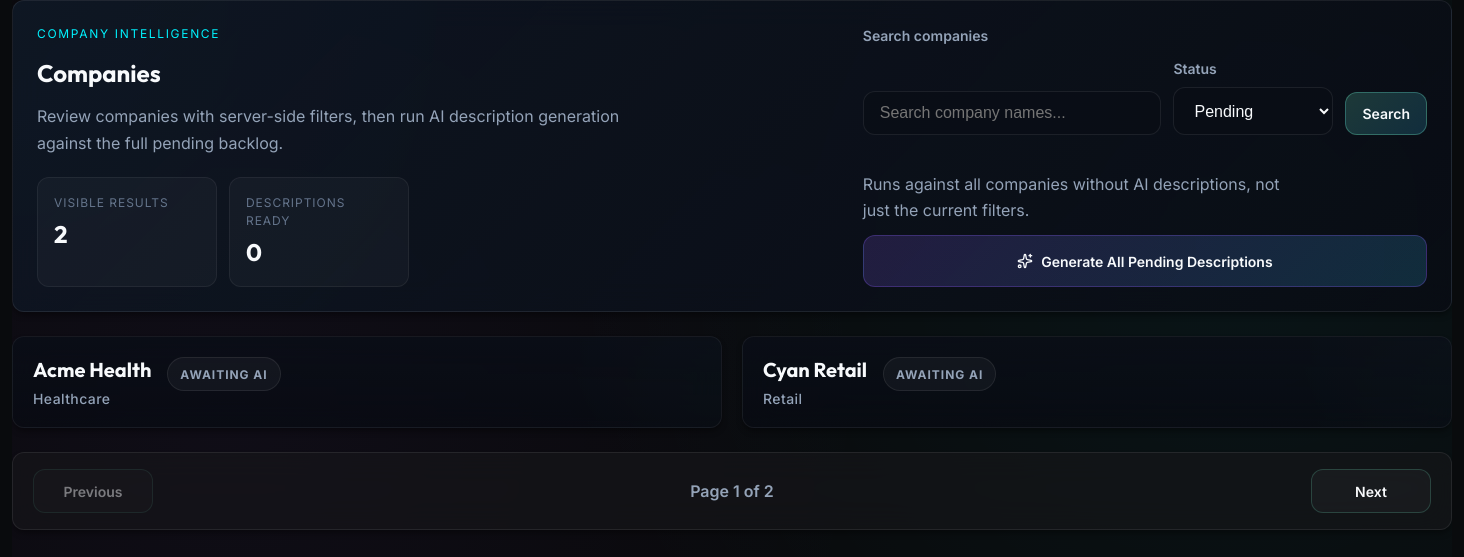
it: CompaniesPage › resets to page 1 when search or status filters change
Expected: the heading "Acme Health" is shown, [33, 357, 151, 382]
Step 1. Select "All" in the dropdown labelled "Status" → coordinates (1254, 111), box [1174, 87, 1334, 135]
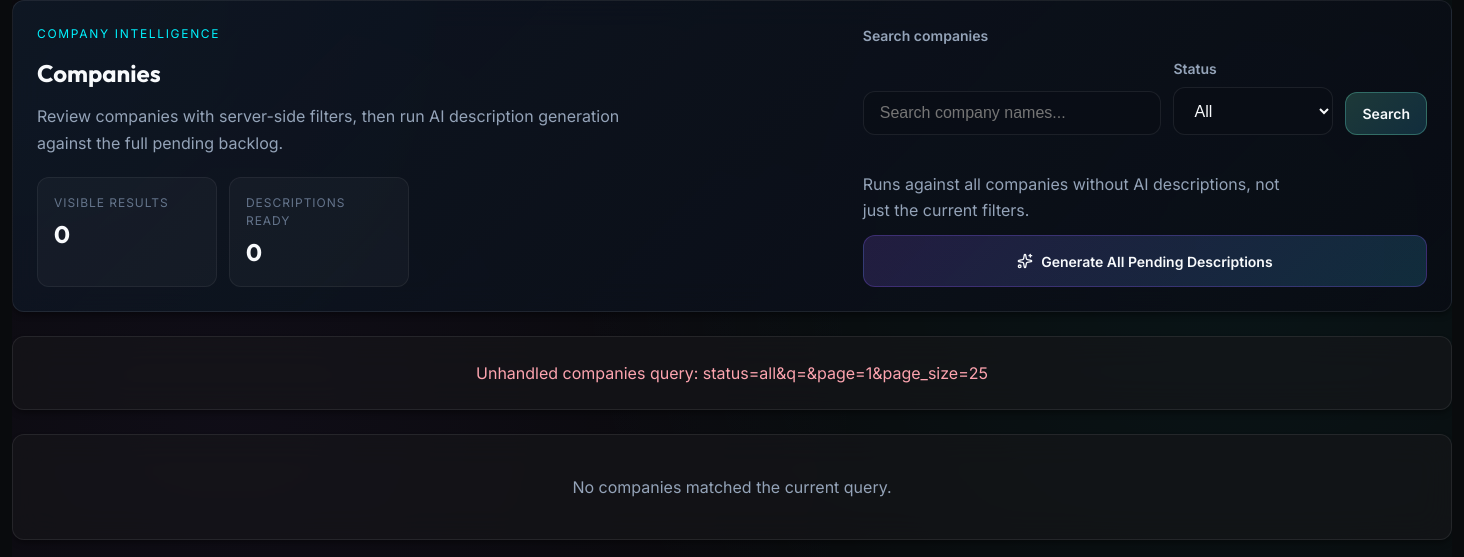
Step 2. Type "beta" into the field labelled "Search companies" → coordinates (1012, 113), box [863, 91, 1162, 135]
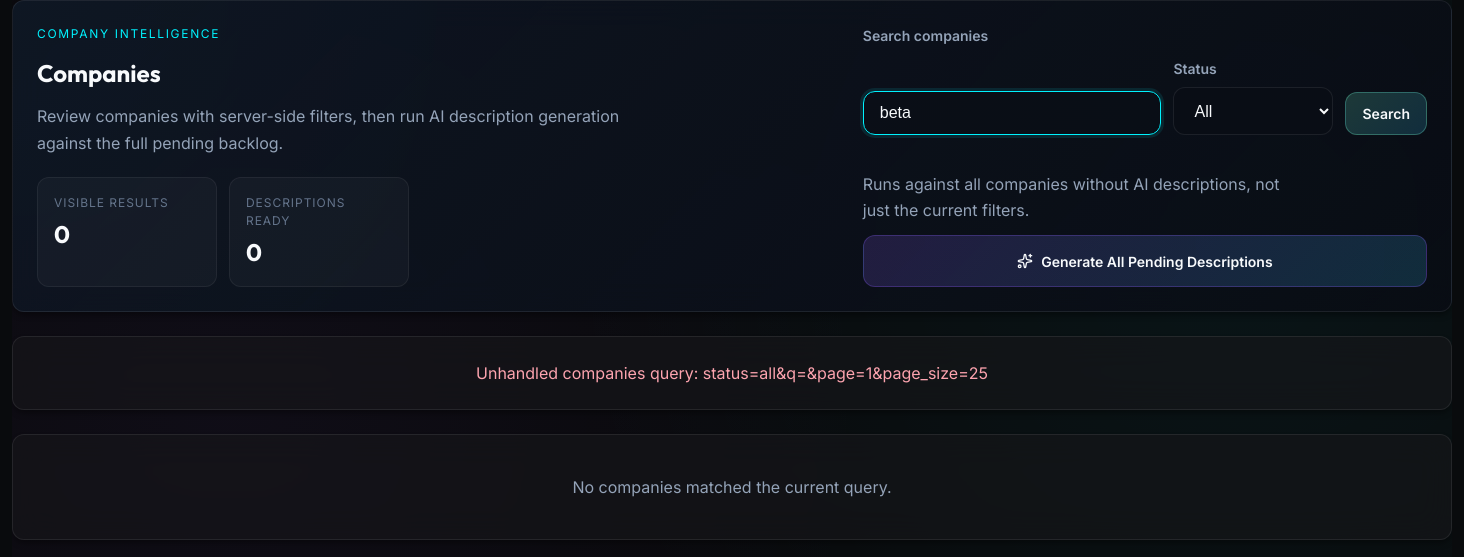
Step 3. Click the button "Search" → coordinates (1386, 114), box [1346, 92, 1427, 135]
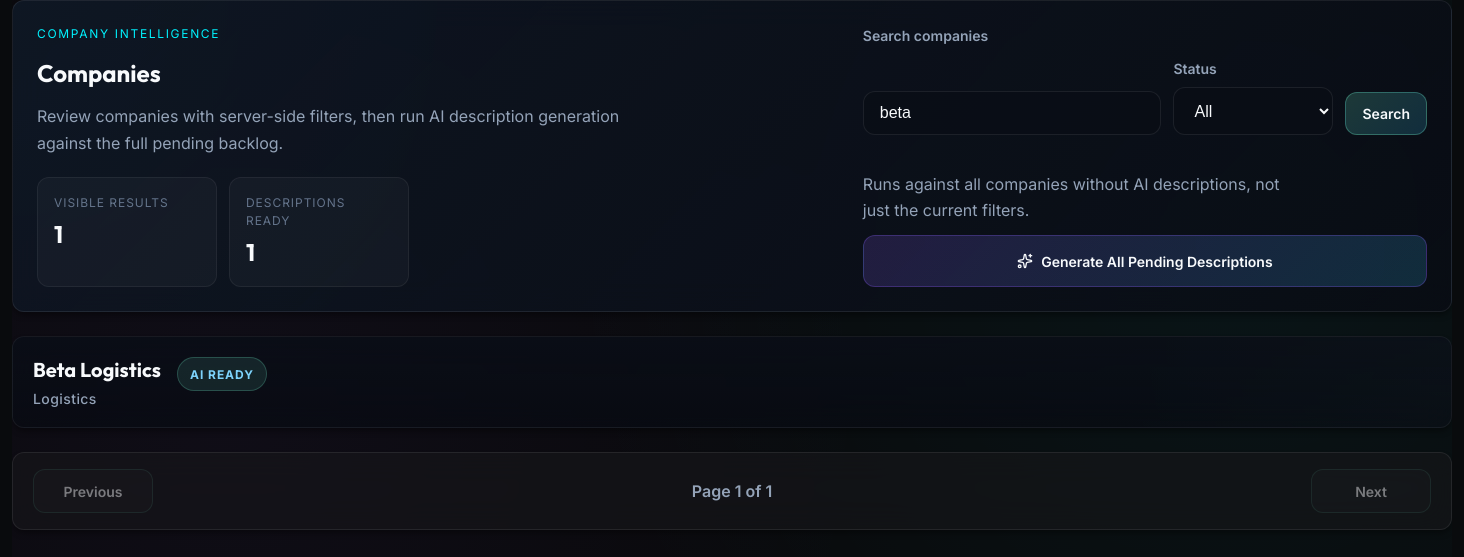
Now the heading "Beta Logistics" is shown, box [33, 357, 161, 382]
